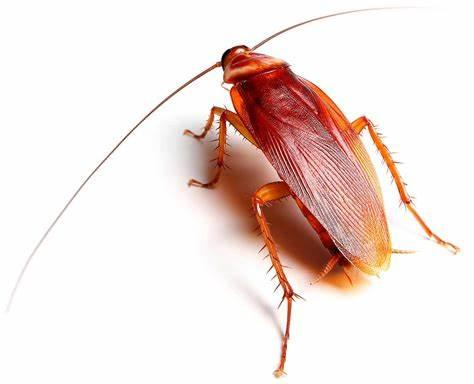cockroach: (178, 42, 424, 313)
